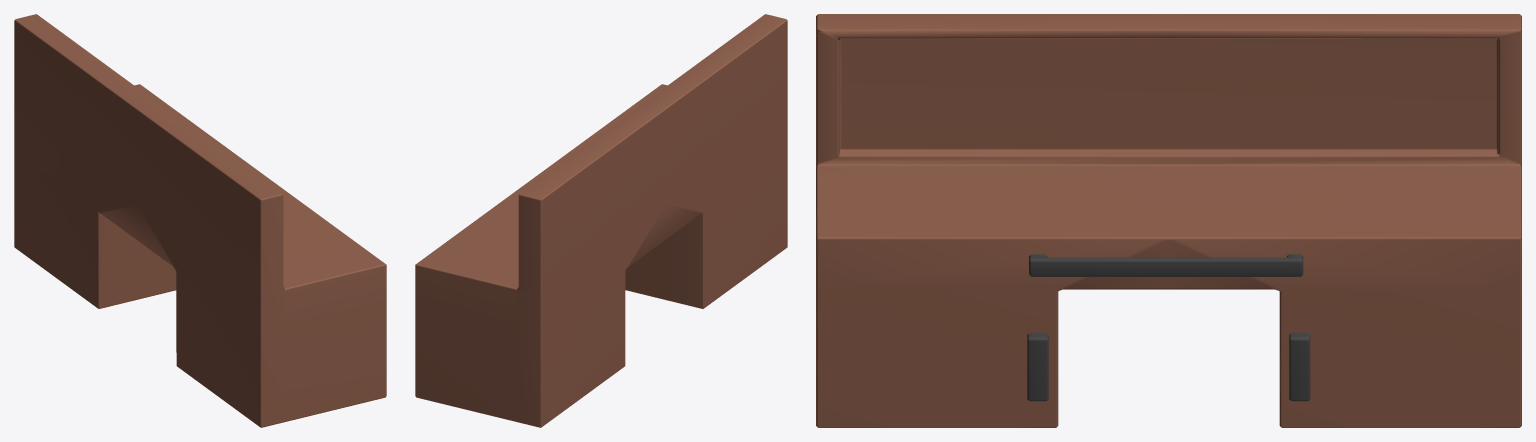
Rendered from TOCADOR.fbx.
The picture shows the model from 3 angles, left to right: view 1: azimuth 30°, elevation 25°; view 2: azimuth 150°, elevation 25°; view 3: azimuth 270°, elevation 25°; orthographic projection. The views are drawn at different scales.
Parts seen in each view (by area): view 1: tocador; view 2: tocador; view 3: tocador.
Part boxes in pixels (x1=…): tocador: x1=14, y1=14, x2=386, y2=427; tocador: x1=415, y1=14, x2=787, y2=427; tocador: x1=816, y1=14, x2=1521, y2=427.
Bounding box in the file's own units: 49.59 × 79.83 × 156.
